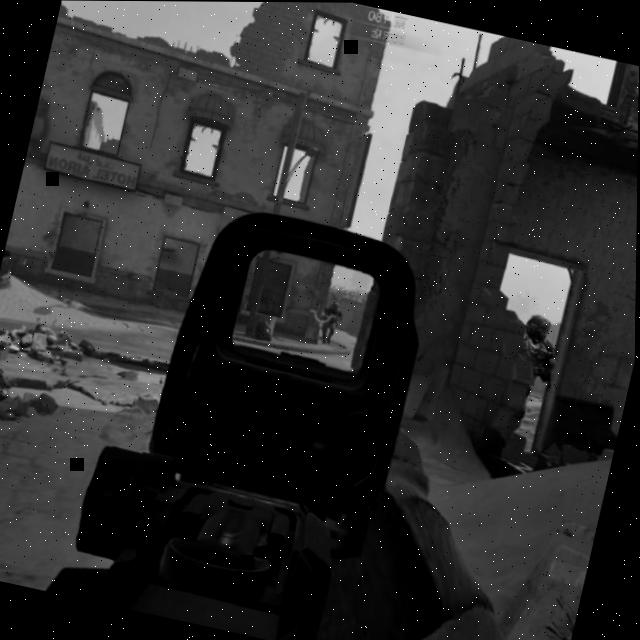MW2_body: (512, 311, 565, 384), (318, 286, 348, 344)
